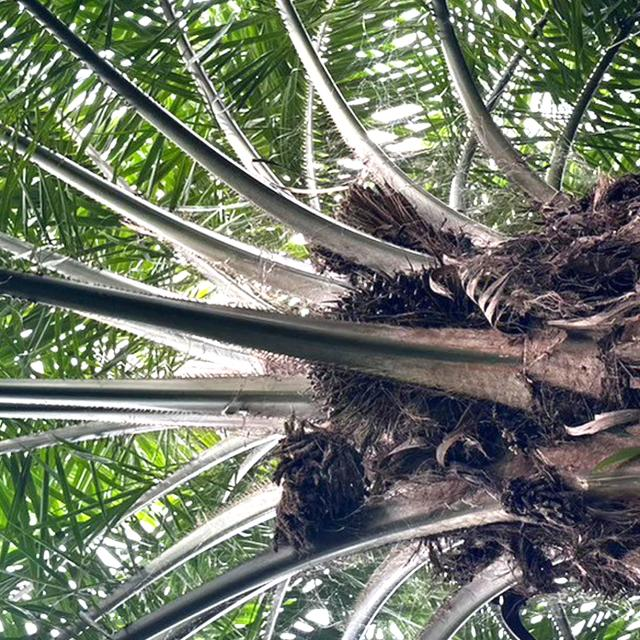almost: (300, 262, 488, 409)
